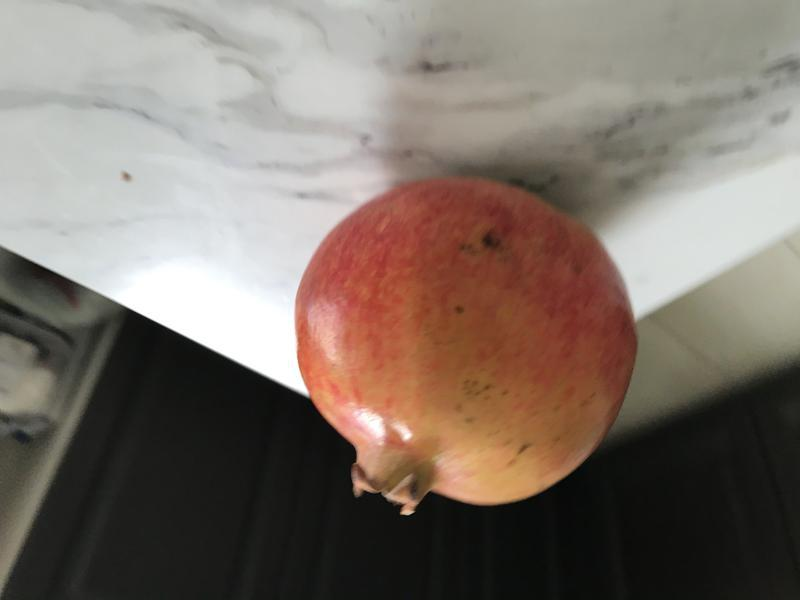pomegranate: (284, 163, 651, 537)
